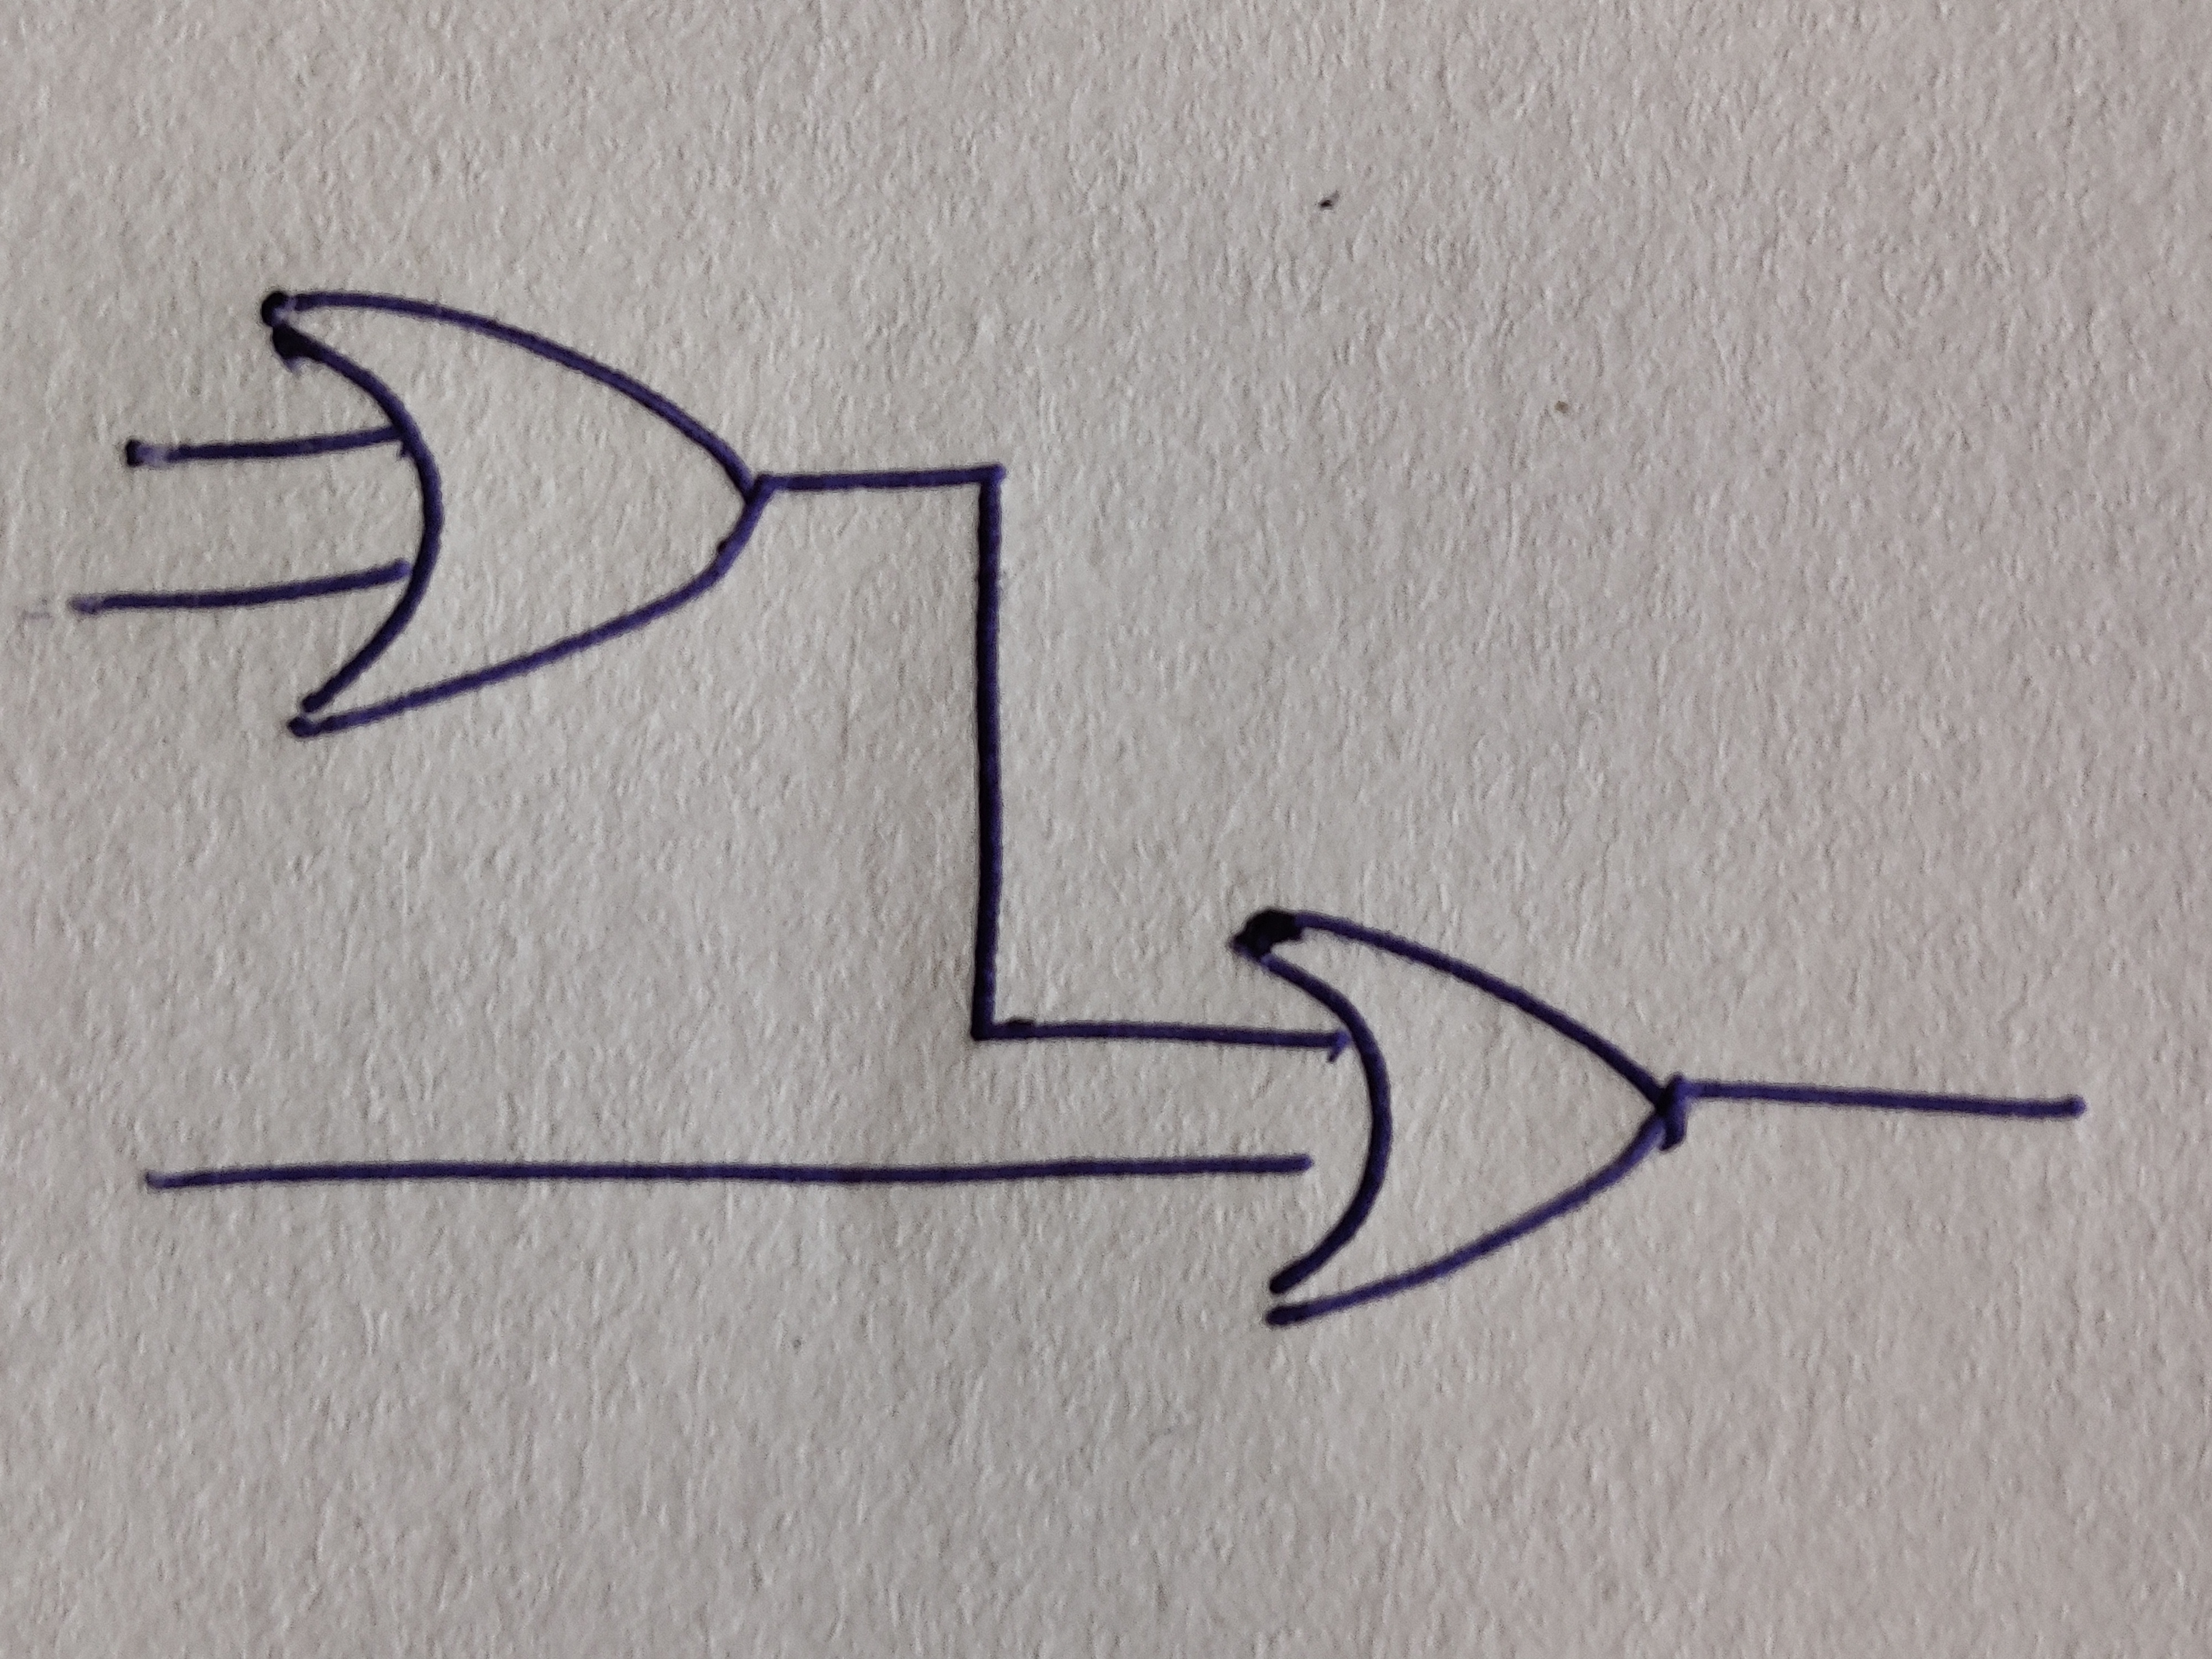or: (260, 286, 772, 741), (1228, 904, 1689, 1331)
